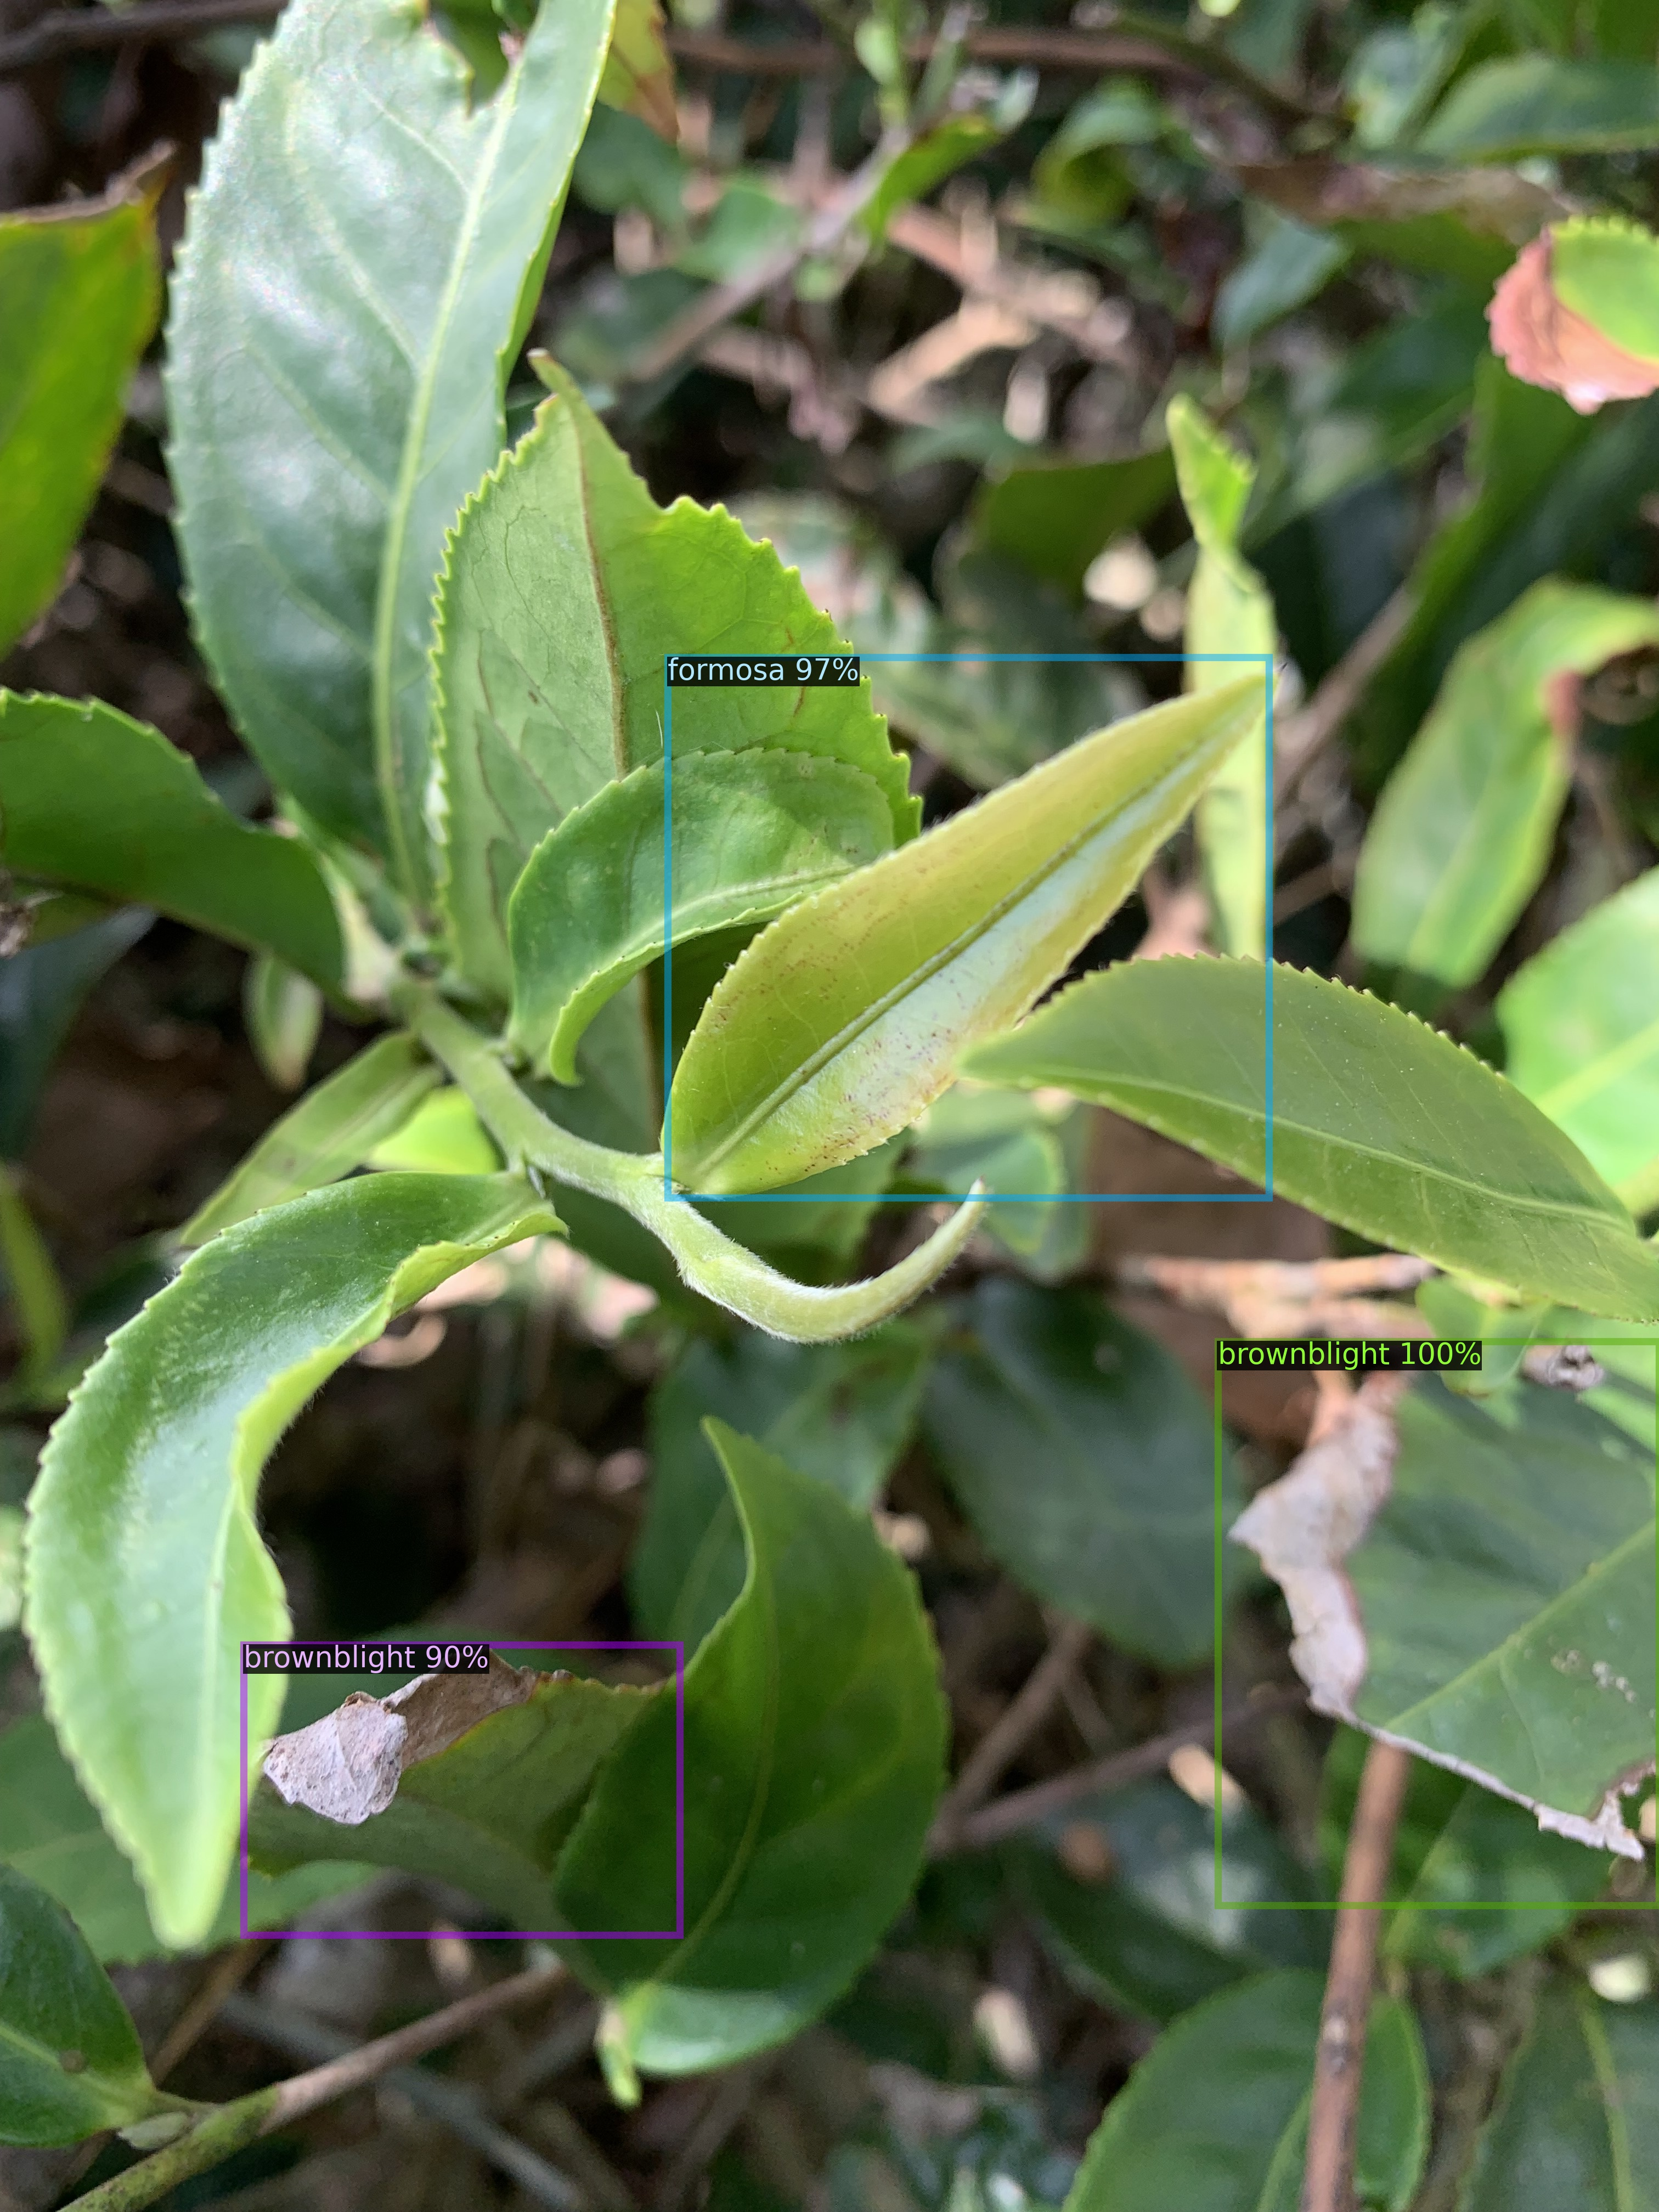brownblight: (1218, 1341, 1659, 1905), (242, 1644, 680, 1935)
formosa: (667, 657, 1269, 1198)
